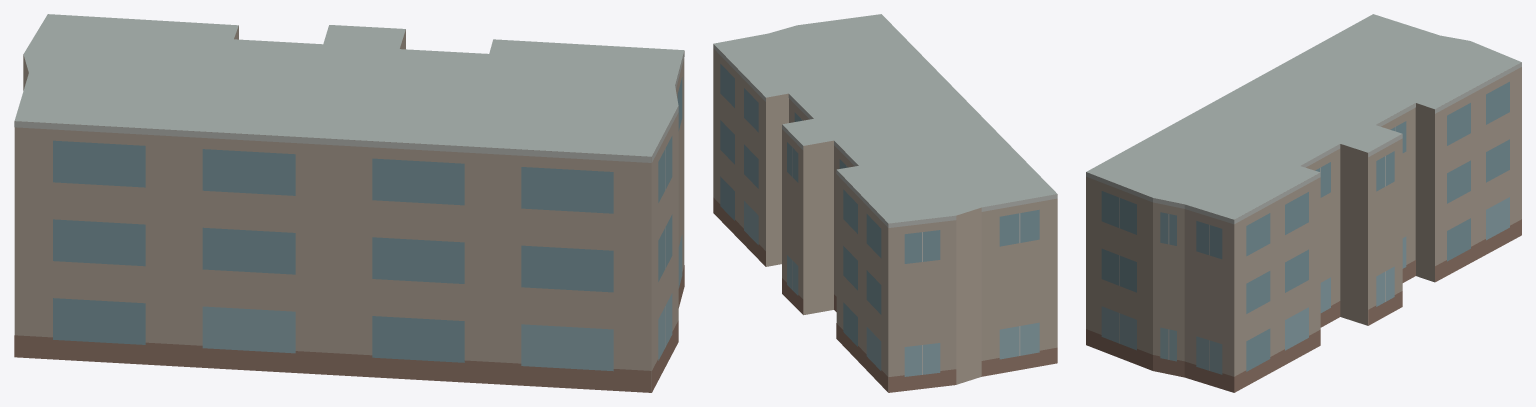
Rendered from survey-upis-32866804.glb.
The picture shows the model from 3 angles, left to right: view 1: azimuth 30°, elevation 25°; view 2: azimuth 150°, elevation 25°; view 3: azimuth 270°, elevation 25°; orthographic projection. The views are drawn at different scales.
Parts seen in each view (by area): view 1: survey-upis-32866804.tmp; view 2: survey-upis-32866804.tmp; view 3: survey-upis-32866804.tmp.
Part boxes in pixels (box(x1,y1,x2,y2)): survey-upis-32866804.tmp: box(14, 14, 684, 392); survey-upis-32866804.tmp: box(713, 14, 1057, 392); survey-upis-32866804.tmp: box(1086, 14, 1521, 392).
Size of the model in its own units: 23.33 by 9.15 by 20.88.
